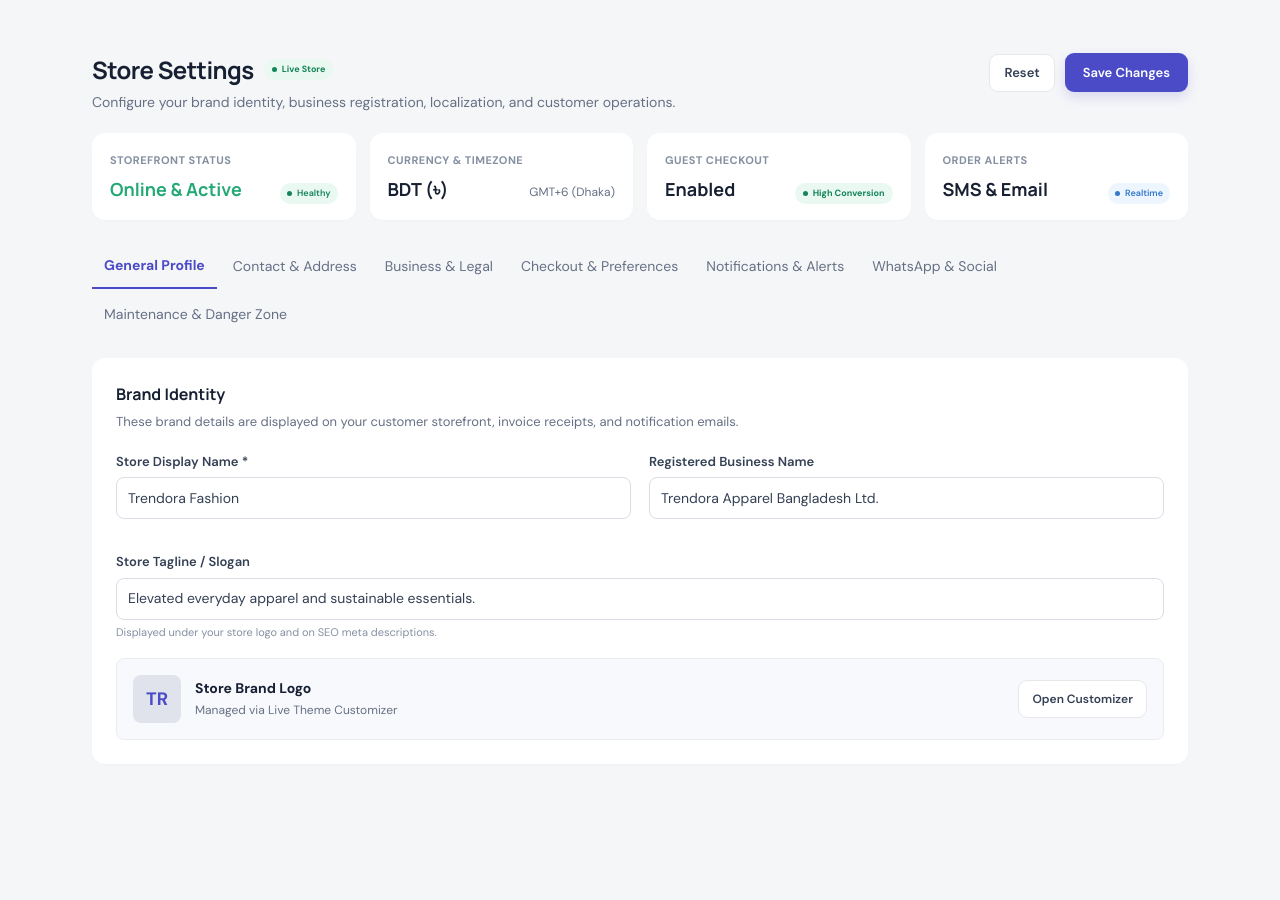
Test case: SettingsPage › toggles maintenance mode and reveals maintenance notice message textarea
This screenshot has width=1280, height=900.
Note: Navigate to danger tab
Click the button "Maintenance & Danger Zone": (195,315) [92,293,299,336]
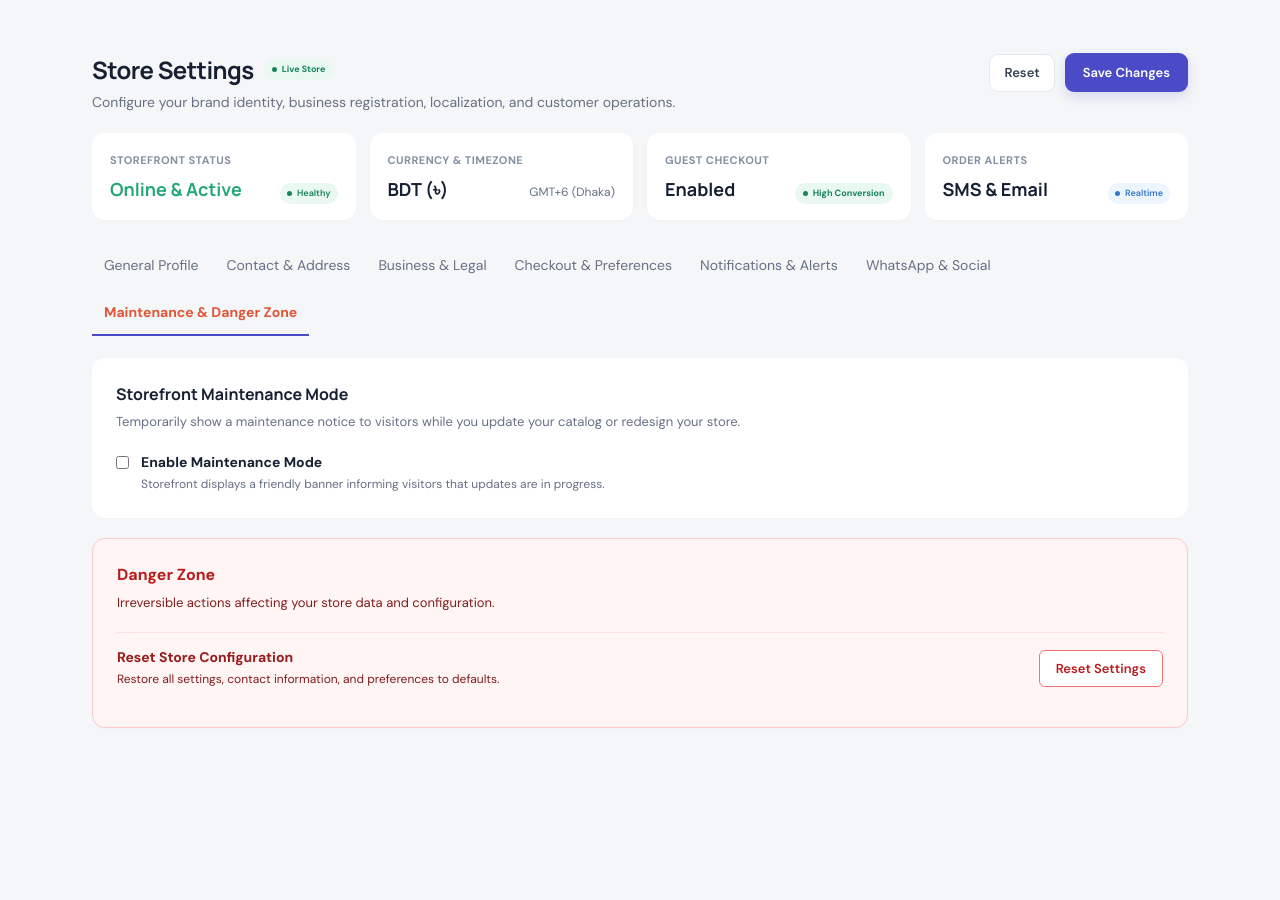
Note: Toggle maintenance mode on
Click the checkbox: (122,462) [116,456,129,469]
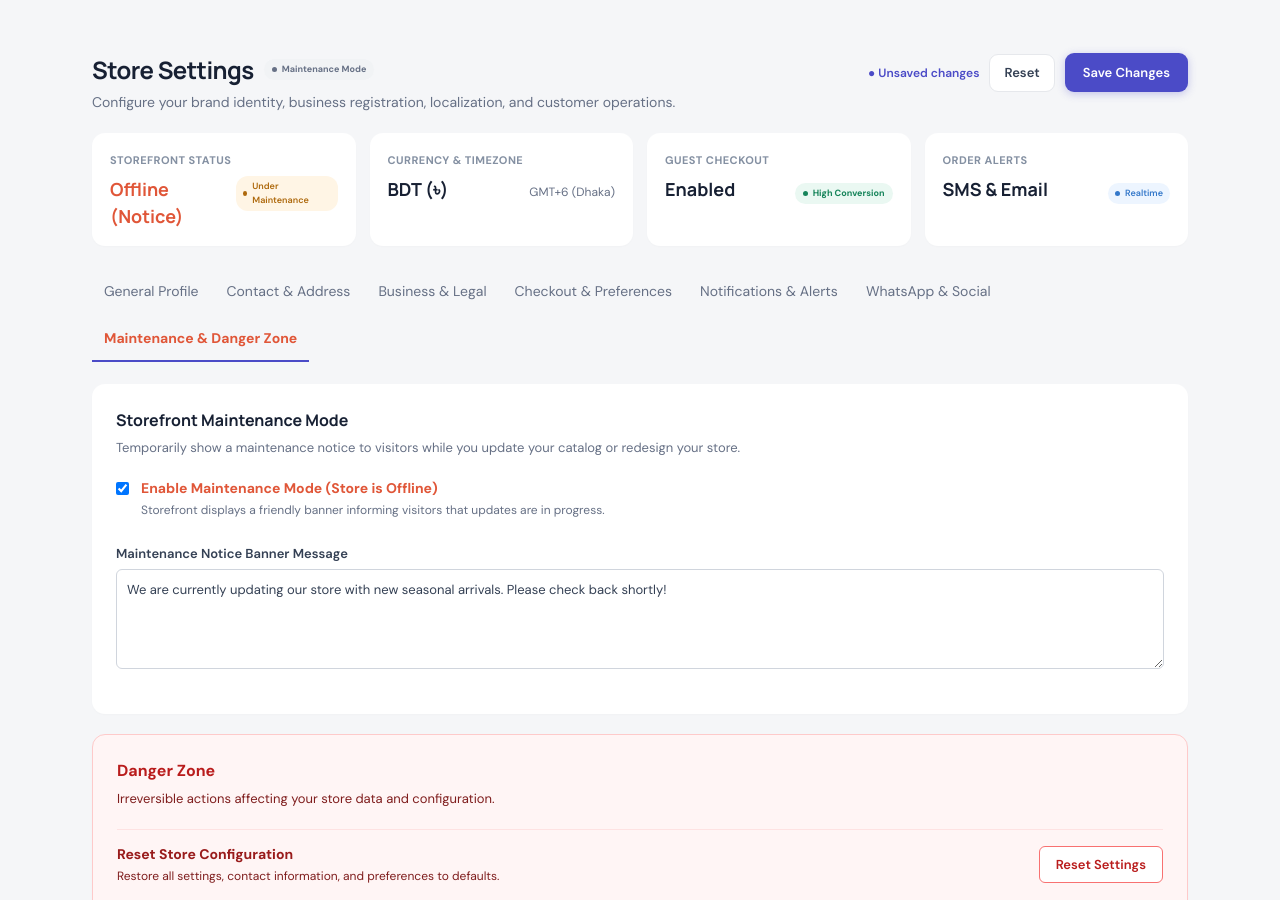
Expected: the checkbox is checked, [116,482,129,494]
Expected: the text "Maintenance Notice Banner Message" is shown, [116,544,348,562]
